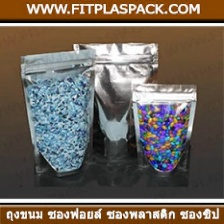snack: (68, 36, 163, 167), (12, 44, 100, 181), (126, 77, 200, 180)
